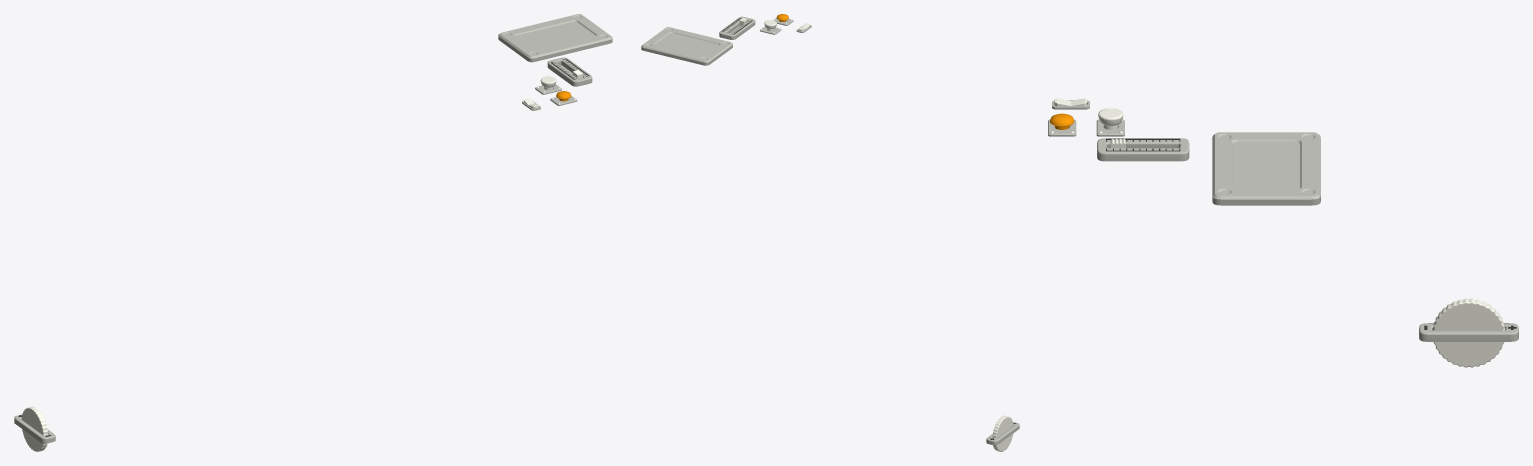
File: KitBash 1.fbx
3 views of the same model, side by side, from view 1: azimuth 30°, elevation 25°; view 2: azimuth 150°, elevation 25°; view 3: azimuth 270°, elevation 25° (orthographic). The views are drawn at different scales.
Parts seen in each view (by area): view 1: kitbash_018, kitbash_048.003, kitbash_067; view 2: kitbash_018, kitbash_048.003, kitbash_067; view 3: kitbash_018, kitbash_048.003, kitbash_067, kitbash_048.
Part boxes in pixels (left/top/right/bottom): kitbash_018: left=498, top=14, right=612, bottom=62; kitbash_048.003: left=21, top=406, right=47, bottom=451; kitbash_067: left=547, top=57, right=592, bottom=86; kitbash_018: left=641, top=27, right=732, bottom=65; kitbash_048.003: left=992, top=415, right=1013, bottom=451; kitbash_067: left=719, top=16, right=755, bottom=39; kitbash_018: left=1212, top=132, right=1320, bottom=205; kitbash_048.003: left=1432, top=298, right=1505, bottom=367; kitbash_067: left=1097, top=138, right=1189, bottom=161; kitbash_048: left=1419, top=323, right=1518, bottom=341.
Size of the model in its own units: 102 by 67.8 by 51.03.
